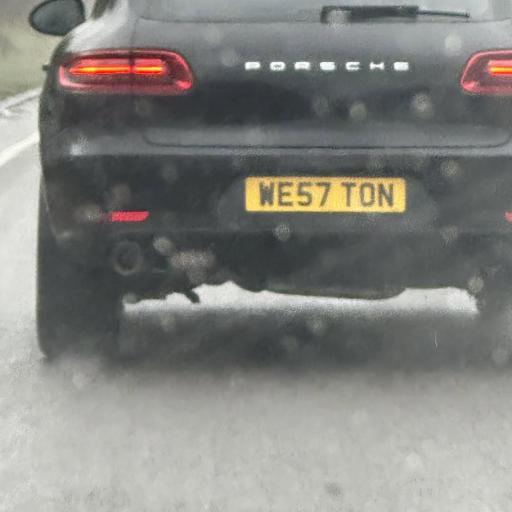numberplates: (246, 177, 406, 212)
